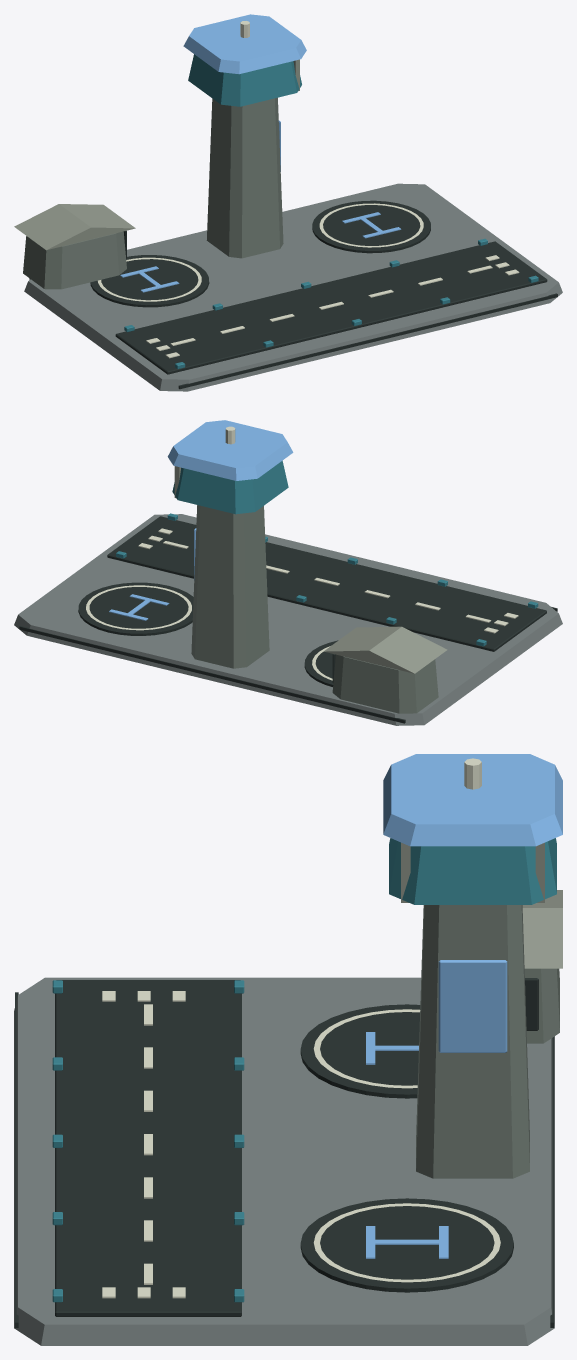
Rendered from airfield.glb.
The picture shows the model from 3 angles, top to bottom: view 1: azimuth 30°, elevation 25°; view 2: azimuth 150°, elevation 25°; view 3: azimuth 270°, elevation 25°; orthographic projection. The views are drawn at different scales.
Visible parts, largest first — view 1: airfield; view 2: airfield; view 3: airfield.
Boxes of the visible parts, left/top/right/bottom form: airfield: left=14, top=14, right=562, bottom=391; airfield: left=14, top=420, right=562, bottom=725; airfield: left=14, top=754, right=562, bottom=1345.
Size of the model in its own units: 5.7 by 3.11 by 3.75.
